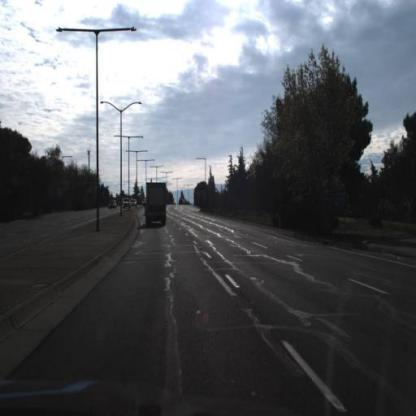car: (108, 199, 117, 212), (158, 199, 163, 209)
truck: (146, 181, 168, 226)
